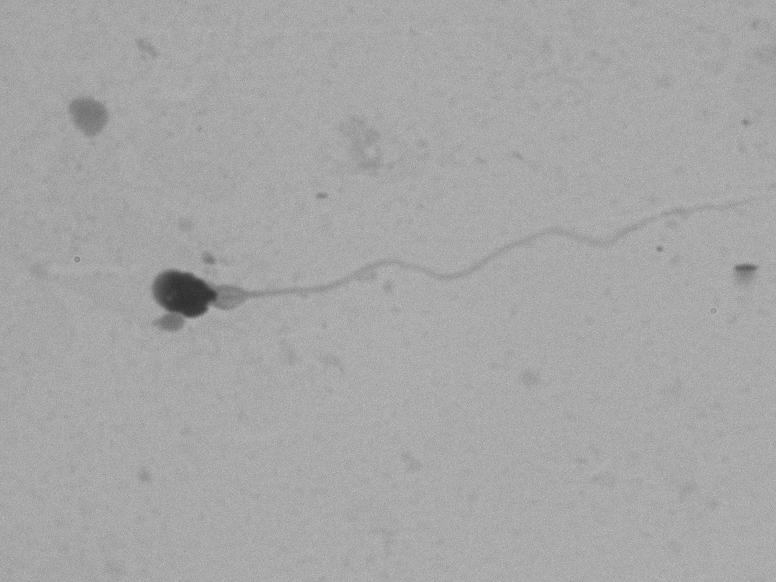Abnormal: (136, 167, 712, 332)
